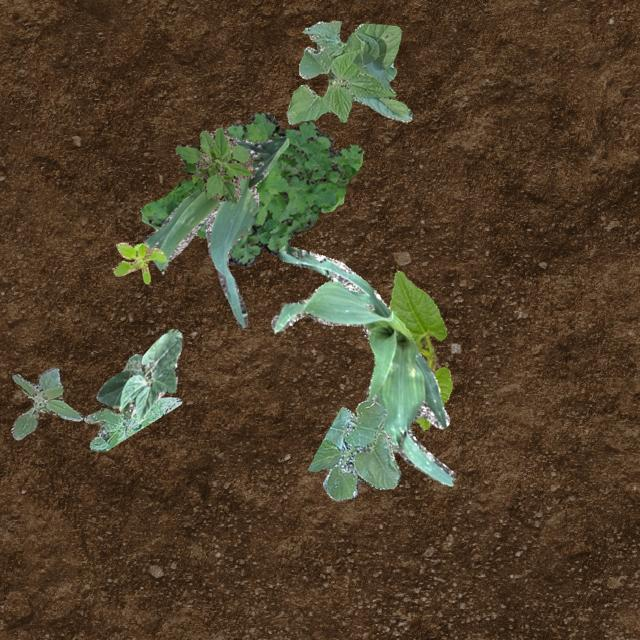crop: (270, 245, 454, 484), (142, 136, 288, 327), (286, 19, 410, 122), (388, 270, 452, 428), (306, 400, 399, 500), (96, 328, 180, 422)
weed: (140, 110, 362, 266), (84, 352, 180, 450), (174, 126, 253, 202), (10, 366, 81, 438), (112, 242, 166, 282)
